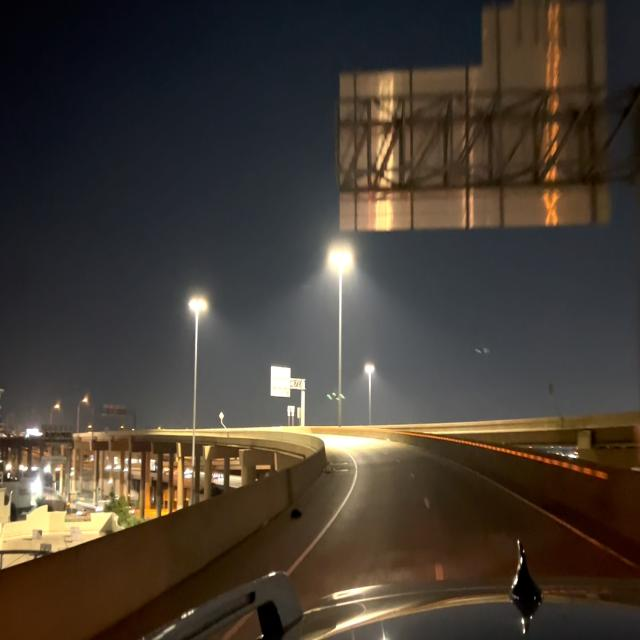back-of-sign: (341, 71, 611, 230), (482, 1, 608, 68)
